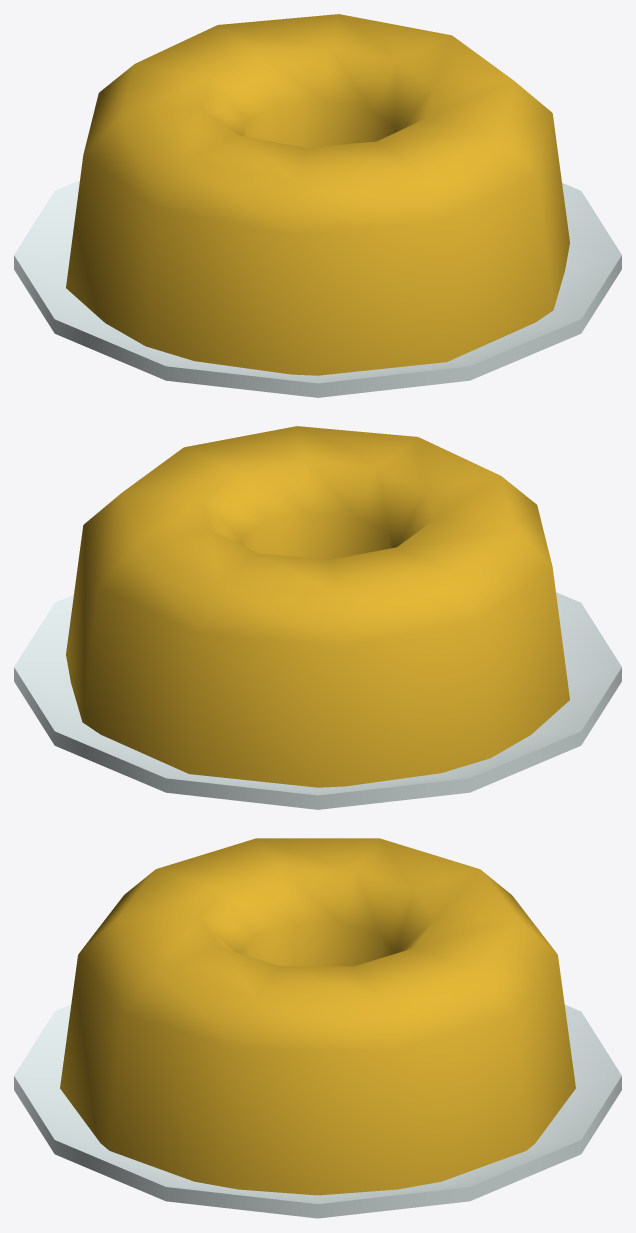
The model's file is bolo.FBX.
3 views of the same model, one above another, from view 1: azimuth 30°, elevation 25°; view 2: azimuth 150°, elevation 25°; view 3: azimuth 270°, elevation 25° (orthographic).
Parts seen in each view (by area): view 1: Cylinder001; view 2: Cylinder001; view 3: Cylinder001.
Part boxes in pixels (box(x1,y1,x2,y2)): Cylinder001: box(14, 14, 621, 397); Cylinder001: box(14, 426, 621, 809); Cylinder001: box(14, 838, 621, 1218).
Size of the model in its own units: 26.1 by 9.11 by 26.1.
